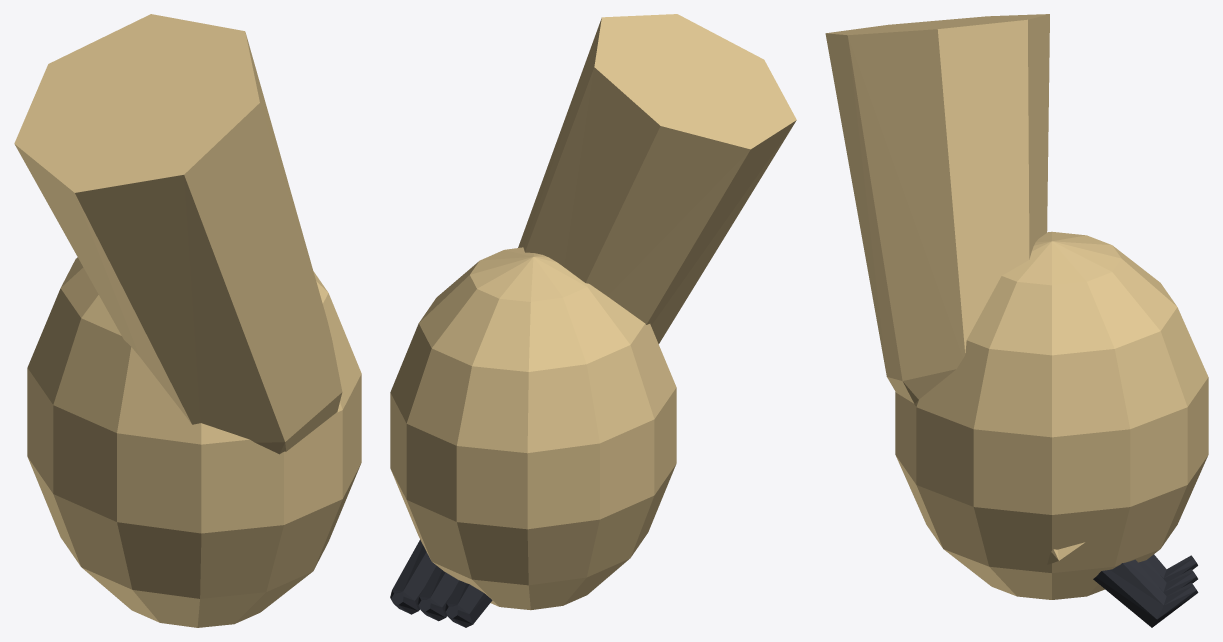
File: gorehulk_a_arm_1.obj
3 renders of one model, left to right at view 1: azimuth 30°, elevation 25°; view 2: azimuth 150°, elevation 25°; view 3: azimuth 270°, elevation 25°, orthographic. The views are drawn at different scales.
Parts seen in each view (by area): view 1: gorehulk_a_arm_1; view 2: gorehulk_a_arm_1; view 3: gorehulk_a_arm_1.
Part boxes in pixels (x1,y1,x2,y2): gorehulk_a_arm_1: [14, 14, 361, 627]; gorehulk_a_arm_1: [390, 14, 796, 627]; gorehulk_a_arm_1: [825, 14, 1208, 627].
Bounding box in the file's own units: 0.5068 × 0.8583 × 0.5367.
